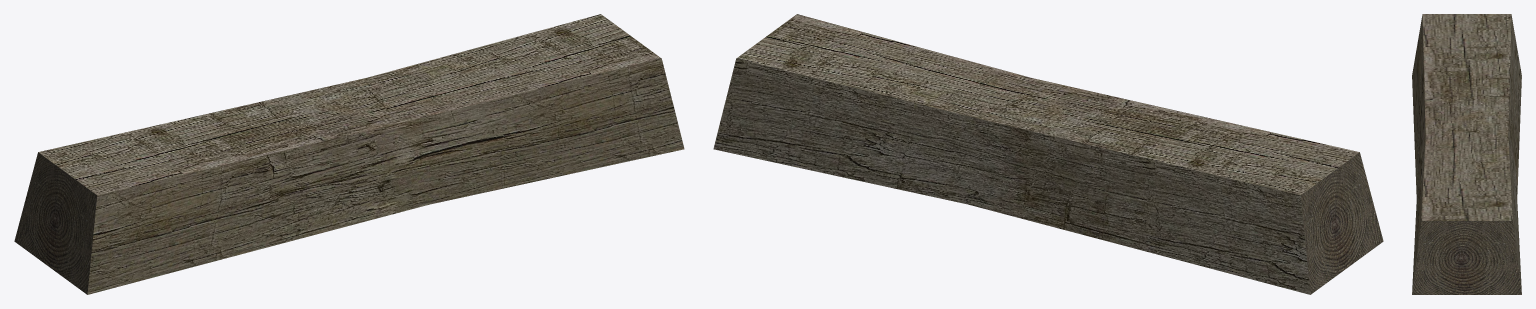
The model's file is CRAFT_DREWNO2.glb.
The picture shows the model from 3 angles, left to right: view 1: azimuth 30°, elevation 25°; view 2: azimuth 150°, elevation 25°; view 3: azimuth 270°, elevation 25°; orthographic projection. The views are drawn at different scales.
Visible parts, largest first — view 1: CRAFT_DREWNO2; view 2: CRAFT_DREWNO2; view 3: CRAFT_DREWNO2.
Boxes of the visible parts, <box> form: CRAFT_DREWNO2: <box>14,14,684,294</box>; CRAFT_DREWNO2: <box>713,14,1383,294</box>; CRAFT_DREWNO2: <box>1412,14,1521,294</box>.
Size of the model in its own units: 0.5789 by 0.0837 by 0.1227.
2 materials, 2 textured.
